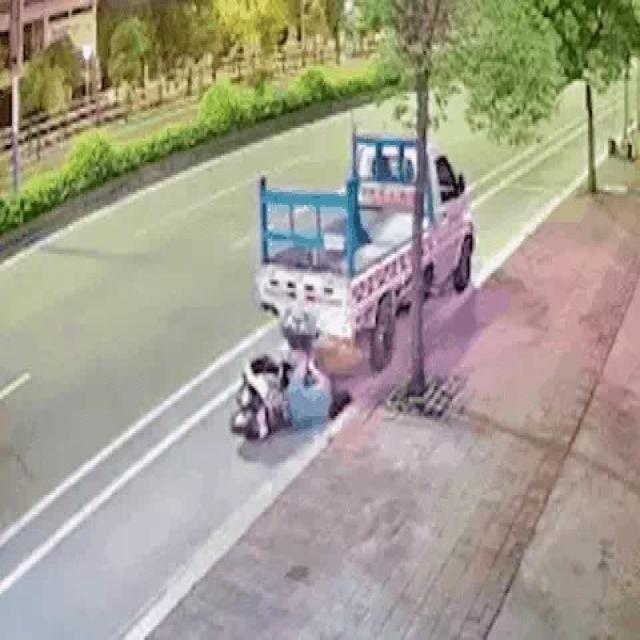multiple_accident: (224, 124, 479, 453)
